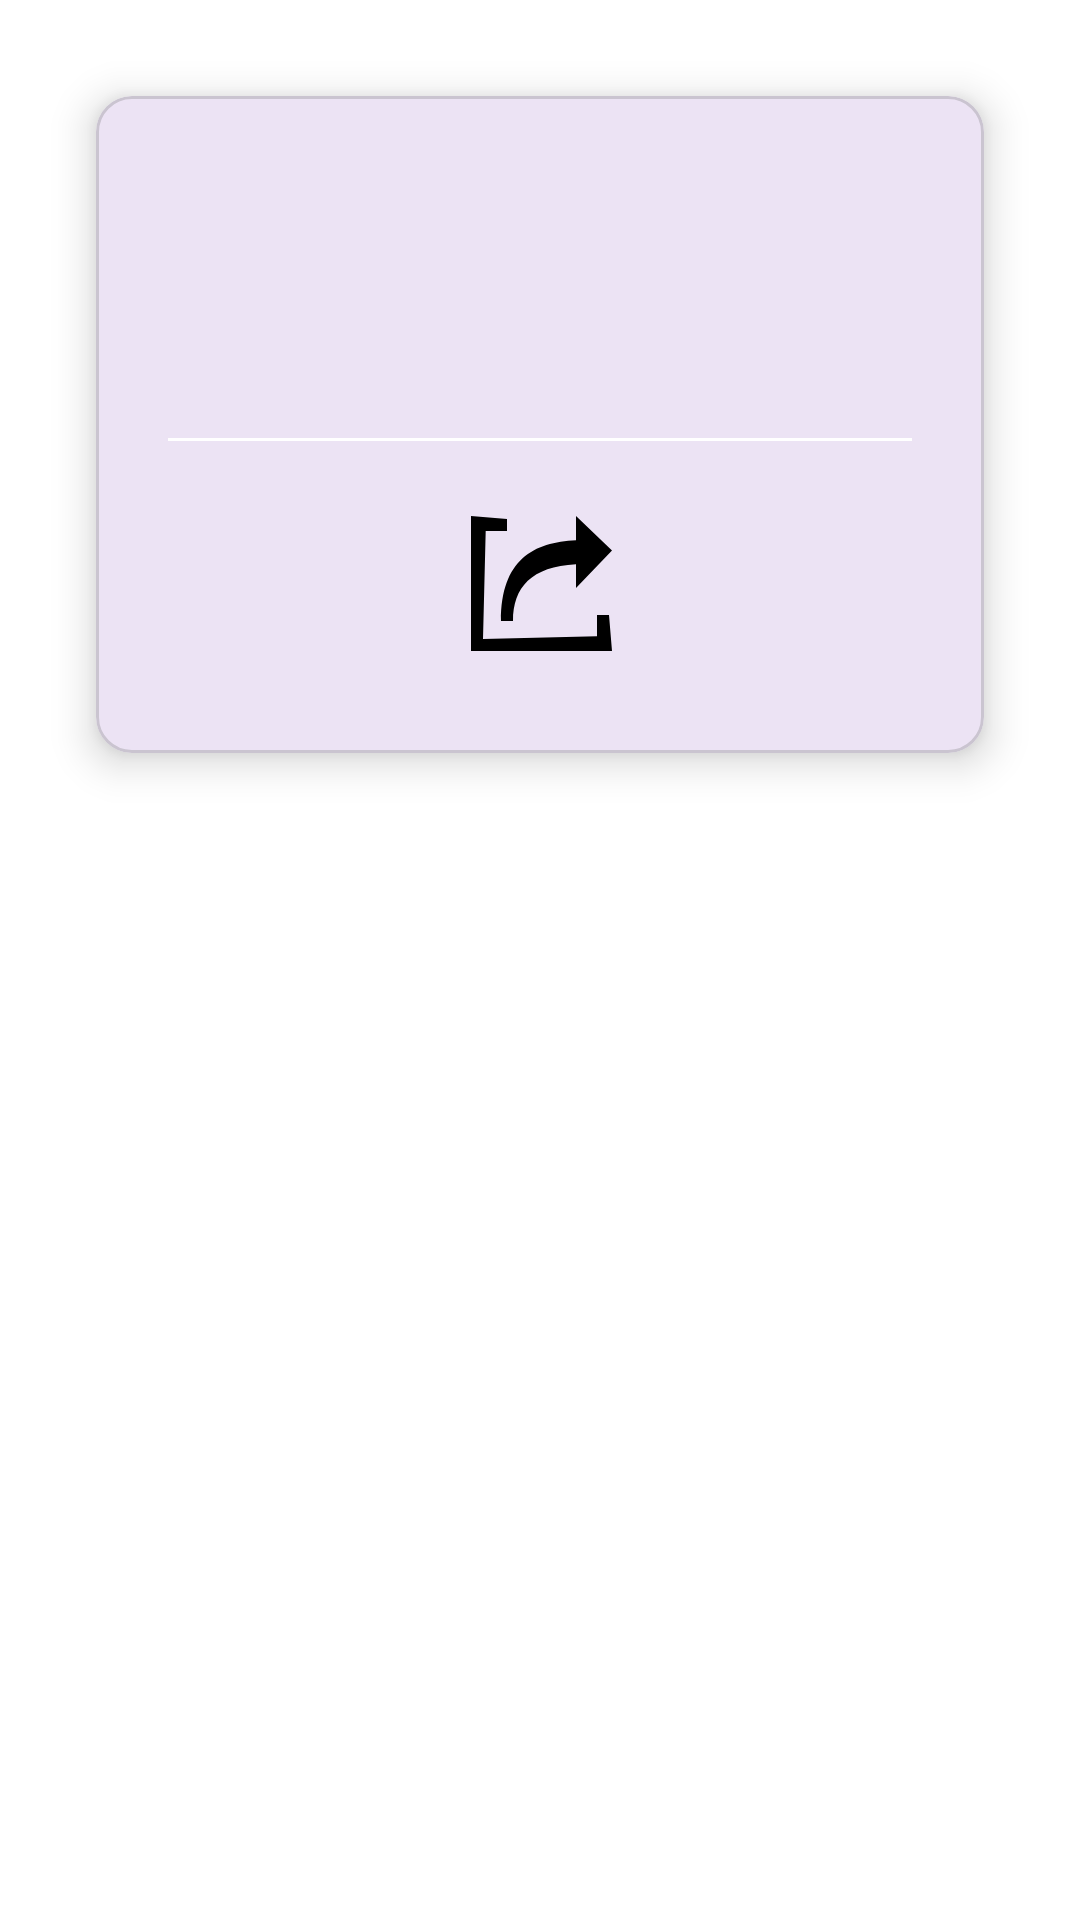

Where to tap for icons on this 1080 × 1920 app screen, as (x,y):
share: (541,583)
